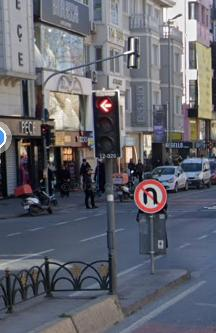redlight: (94, 93, 119, 153)
